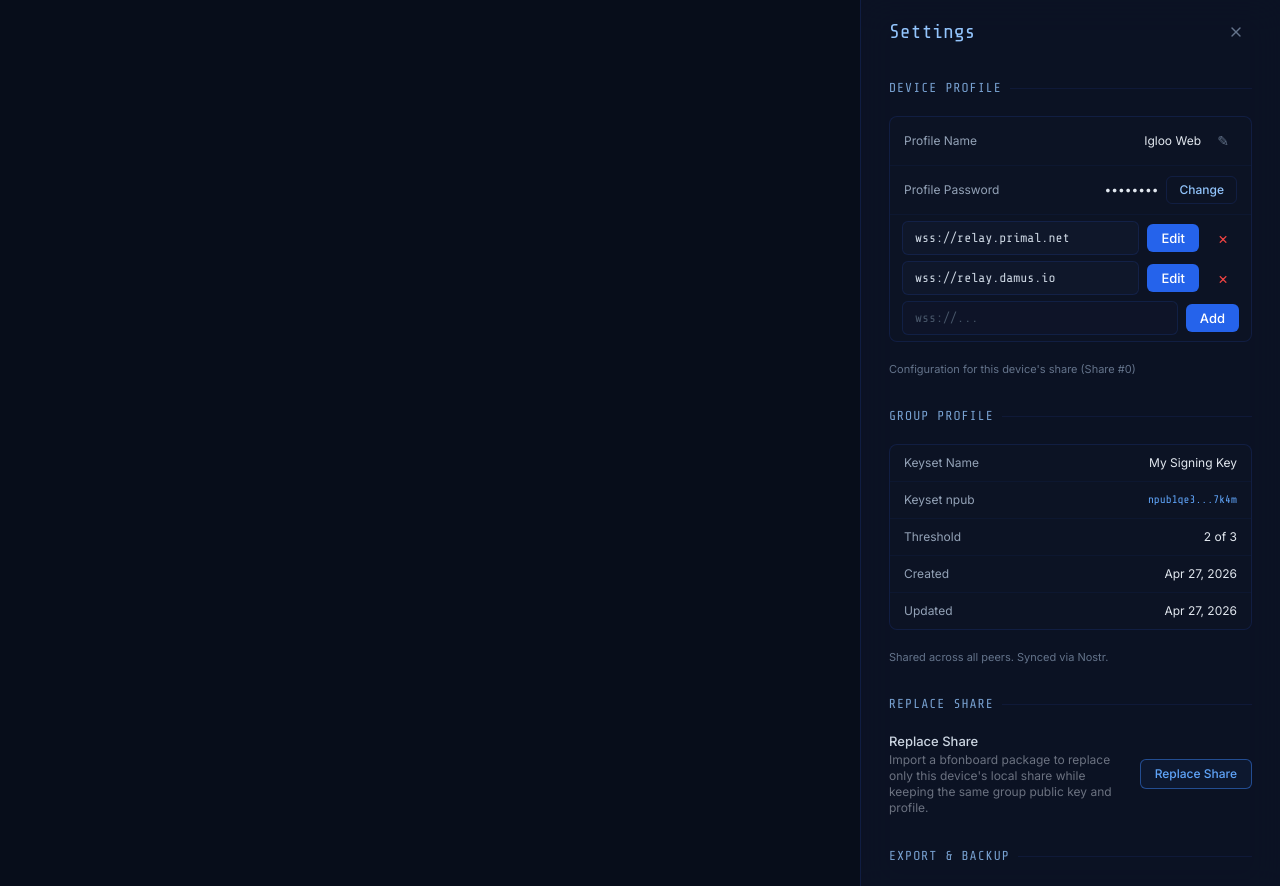
Test: SettingsSidebar — Relay List (VAL-SETTINGS-003..006, 023) › Add rejects a duplicate URL (case-insensitive / trailing slash) with the canonical error (VAL-SETTINGS-023)
Type "WSS://Relay.Damus.io/" into the field named "Add relay URL" at (1040, 318), box [902,301,1178,335]
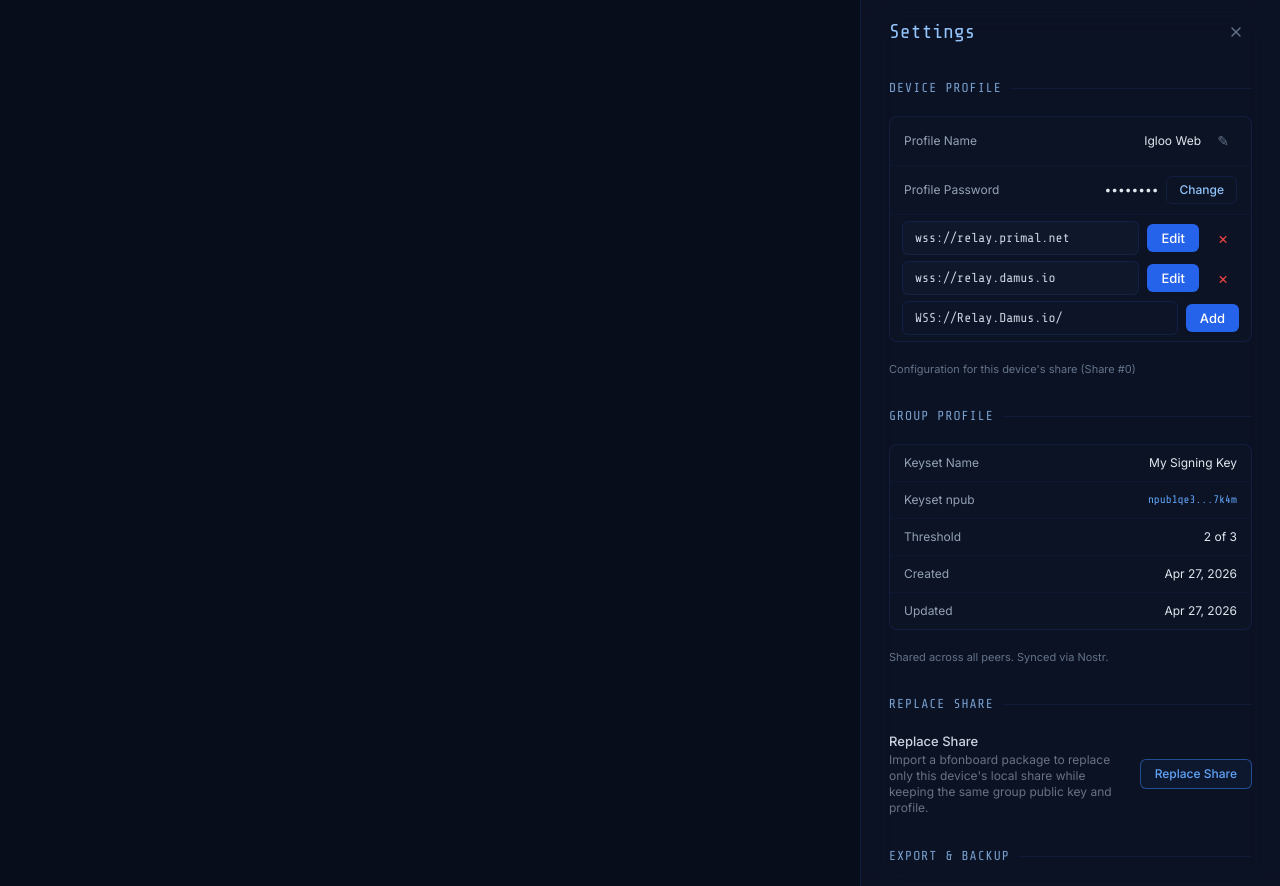
Click the button "Add" at (1212, 318), box [1186,304,1239,332]
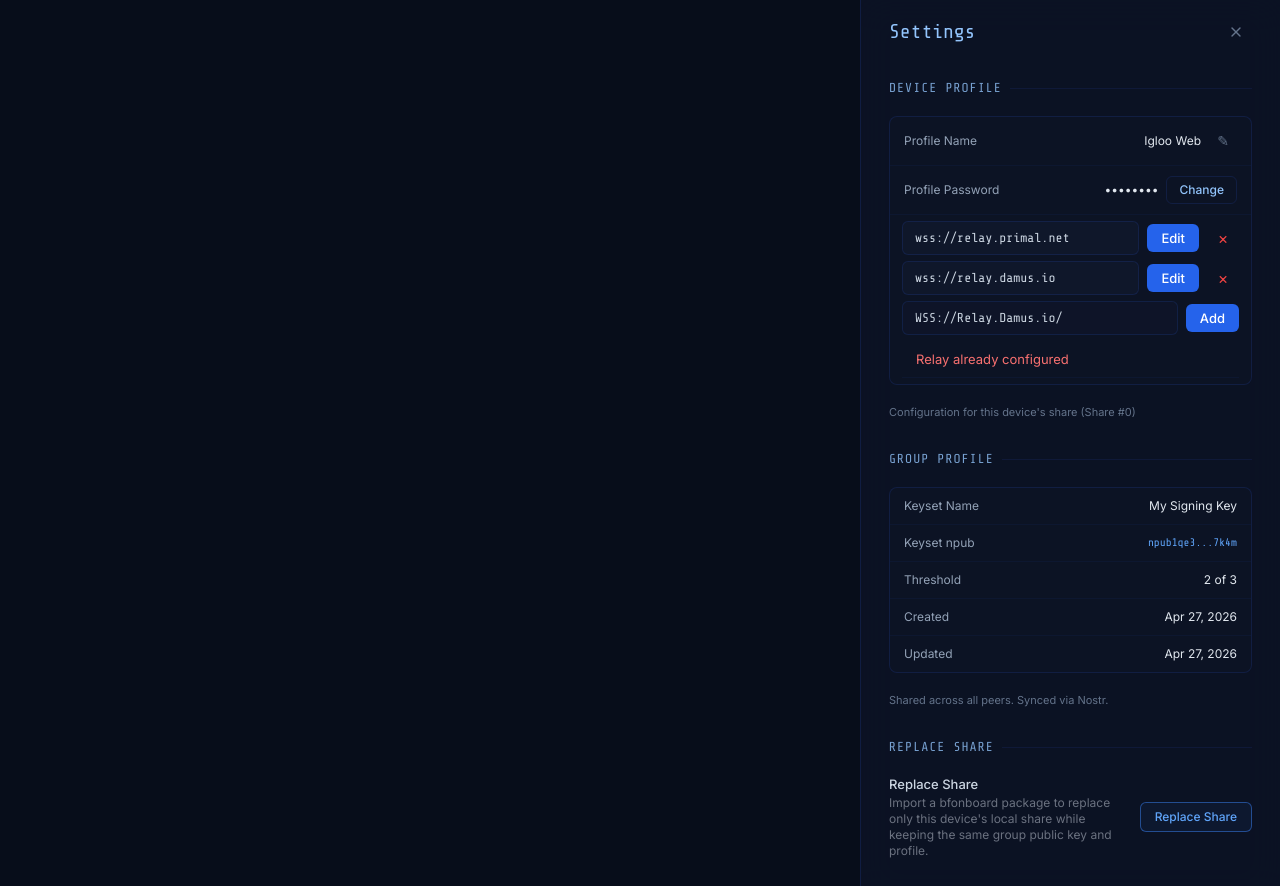
Check: the message with test id "settings-relay-add-error" reads "Relay already configured", box [916,351,1069,367]
